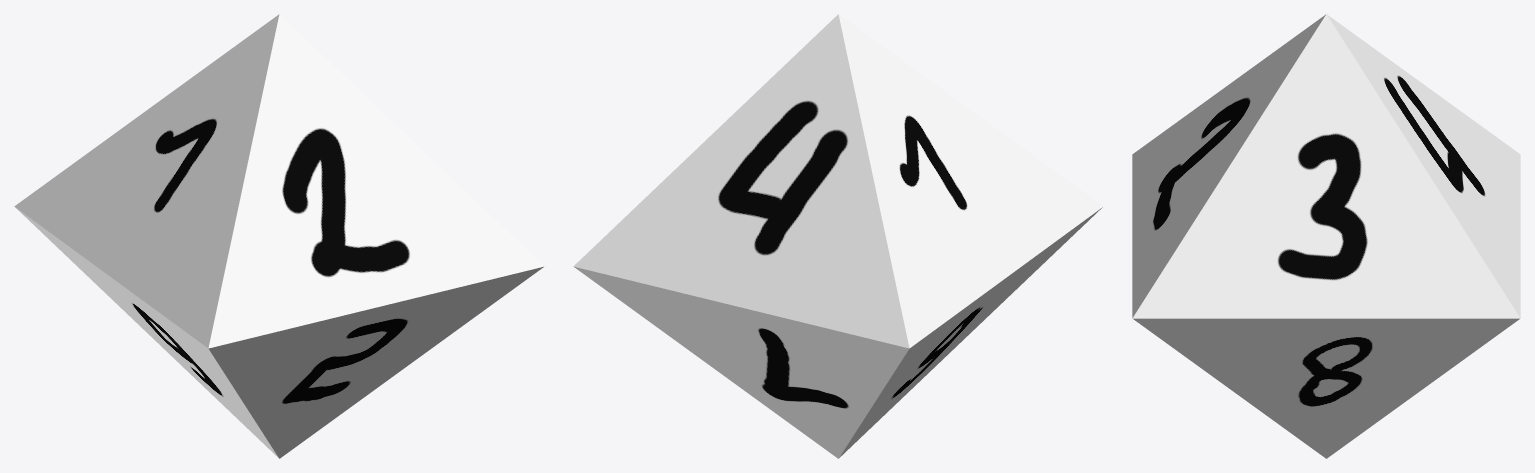
3 renders of one model, left to right at view 1: azimuth 30°, elevation 25°; view 2: azimuth 150°, elevation 25°; view 3: azimuth 270°, elevation 25°, orthographic.
Visible parts, largest first — view 1: d8; view 2: d8; view 3: d8.
Part boxes in pixels (left/top/right/bottom): d8: left=14, top=14, right=544, bottom=458; d8: left=573, top=14, right=1103, bottom=458; d8: left=1132, top=14, right=1520, bottom=458.
Size of the model in its own units: 1.5 by 1.9 by 1.5.
Materials: 1 (1 with a texture image).
